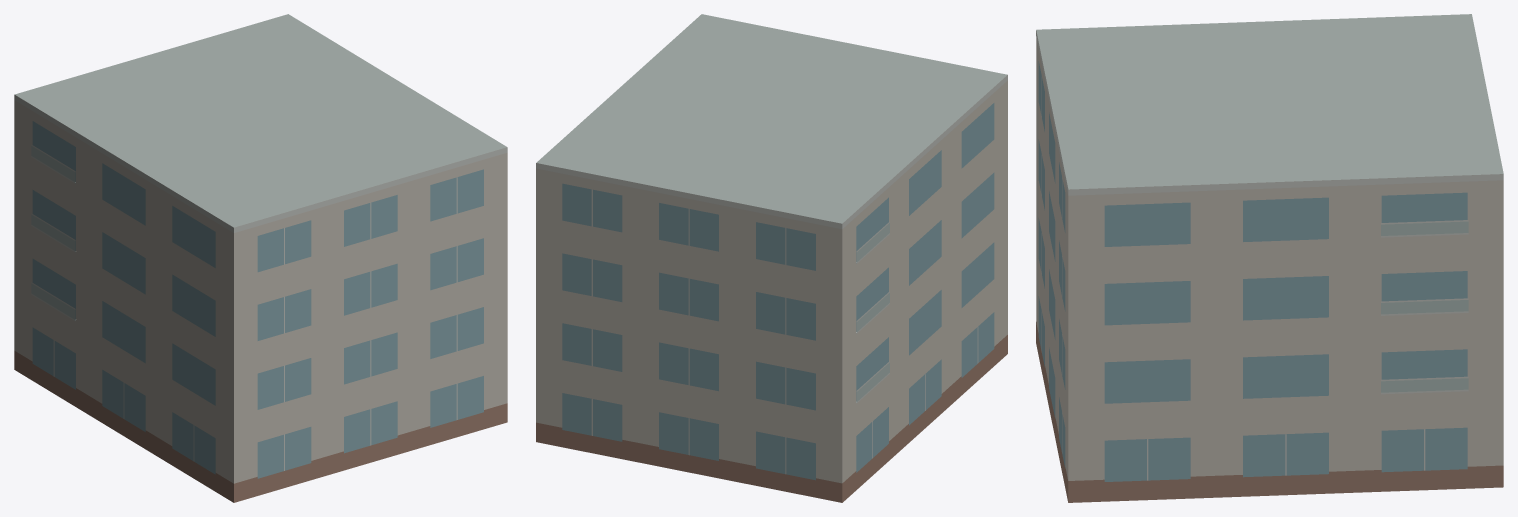
Rendered from residential-f69e9d66-46d6-4b48-8572-f8969e18c21a.glb.
3 renders of one model, left to right at view 1: azimuth 30°, elevation 25°; view 2: azimuth 150°, elevation 25°; view 3: azimuth 270°, elevation 25°, orthographic. The views are drawn at different scales.
Visible parts, largest first — view 1: residential-f69e9d66-46d6-4b48-8572-f8969e18c21a.tmp; view 2: residential-f69e9d66-46d6-4b48-8572-f8969e18c21a.tmp; view 3: residential-f69e9d66-46d6-4b48-8572-f8969e18c21a.tmp.
Part boxes in pixels (x1,y1,x2,y2): residential-f69e9d66-46d6-4b48-8572-f8969e18c21a.tmp: [14, 14, 507, 502]; residential-f69e9d66-46d6-4b48-8572-f8969e18c21a.tmp: [536, 14, 1007, 502]; residential-f69e9d66-46d6-4b48-8572-f8969e18c21a.tmp: [1036, 14, 1503, 502].
Size of the model in its own units: 14.66 by 12.2 by 16.51.
